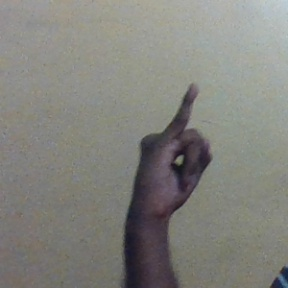I: (130, 80, 219, 217)
